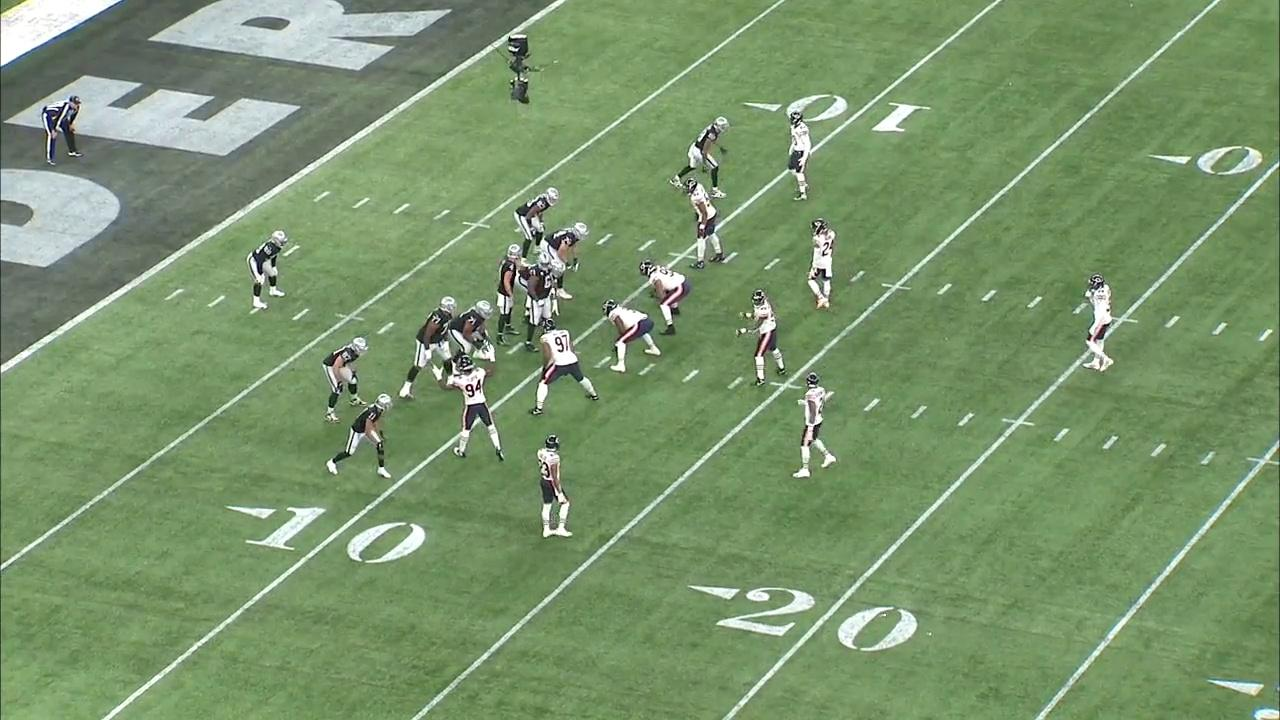player: (429, 342, 500, 463), (527, 318, 602, 418), (323, 390, 399, 483), (396, 296, 460, 404), (666, 113, 733, 201), (734, 286, 788, 389), (790, 370, 836, 479), (318, 333, 373, 423), (599, 297, 663, 373), (679, 175, 728, 272), (636, 258, 693, 337), (534, 433, 575, 542), (512, 182, 562, 268), (538, 220, 591, 301), (245, 227, 291, 313), (447, 299, 495, 377), (1081, 272, 1117, 376), (523, 251, 558, 357), (514, 257, 567, 326), (492, 240, 524, 349), (806, 216, 838, 312), (784, 110, 813, 204)
ref: (38, 92, 85, 170)
